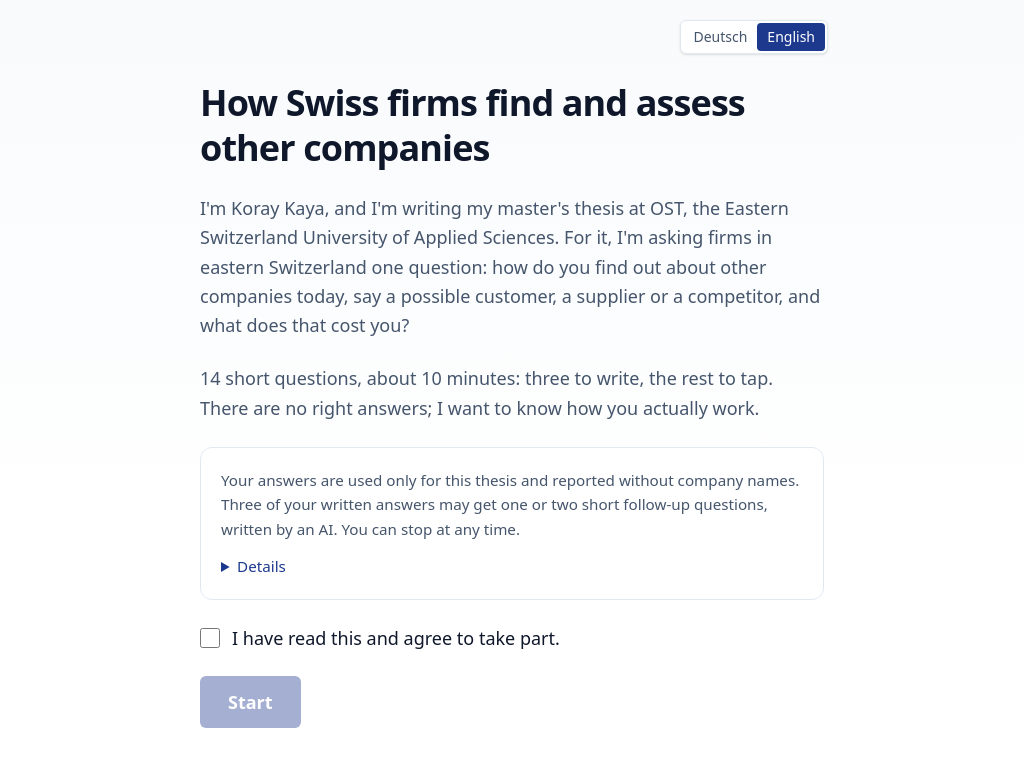
Form › Back returns to the previous answer
Click the checkbox: point(210, 638) [200, 628, 220, 648]
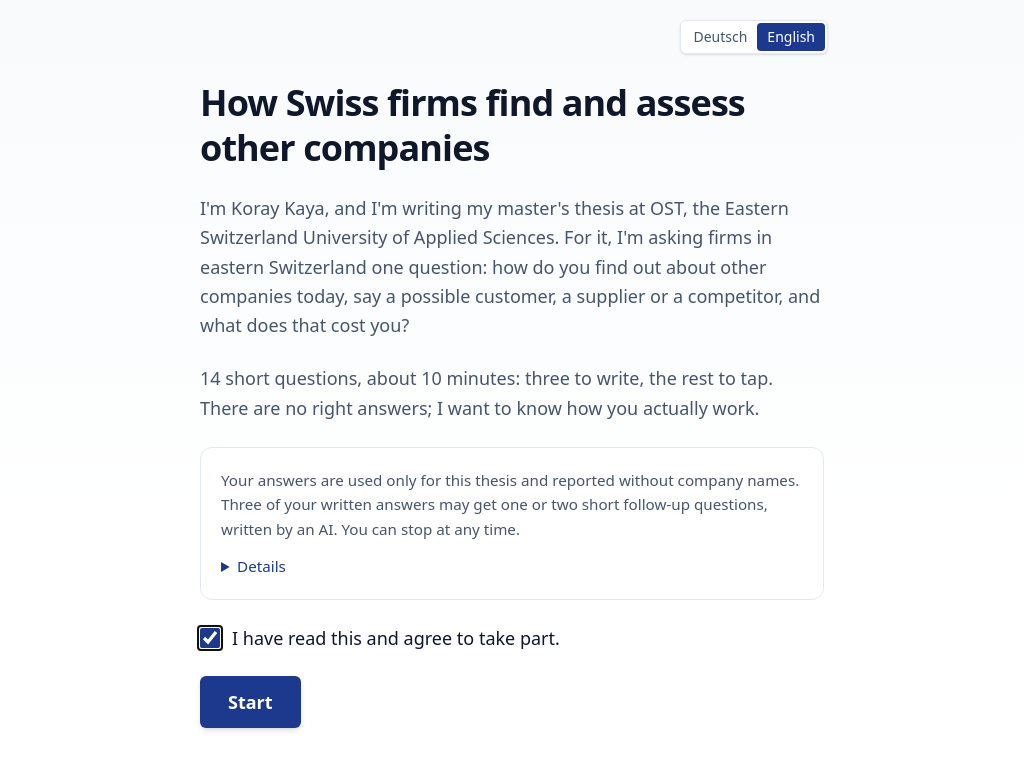
Click the button "Start": point(250, 702) [200, 676, 301, 728]
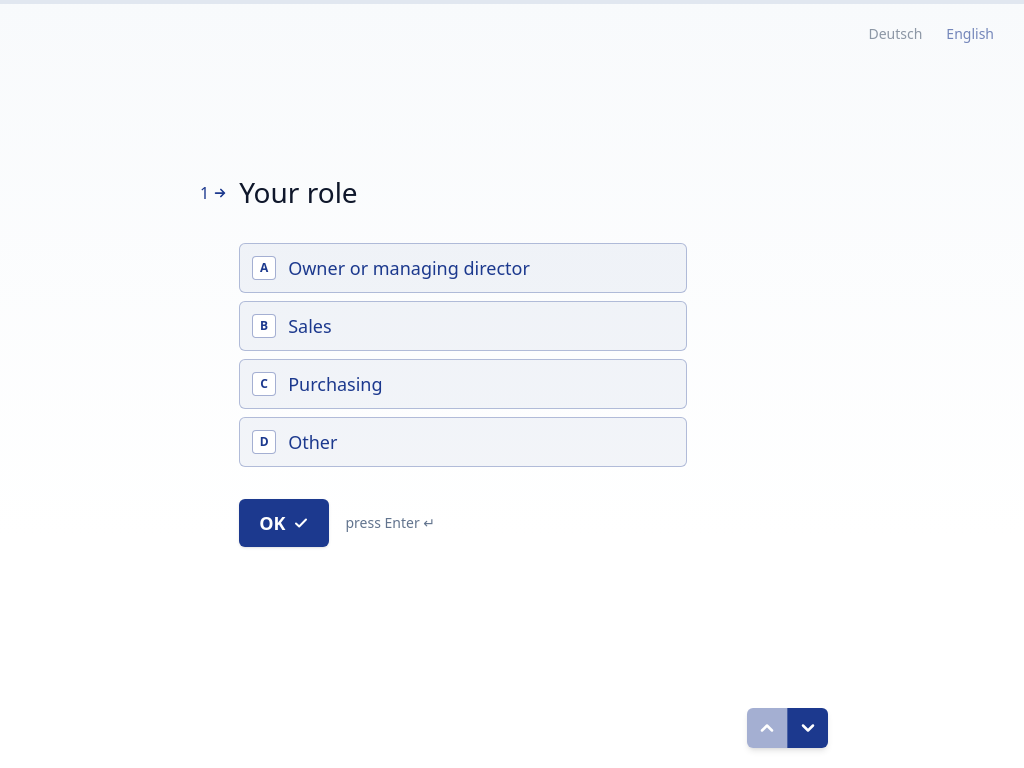
Check: the heading "Your role" is shown, box [239, 173, 358, 211]
Click the radio button labelled "B Sales": point(310, 326) [239, 301, 687, 351]
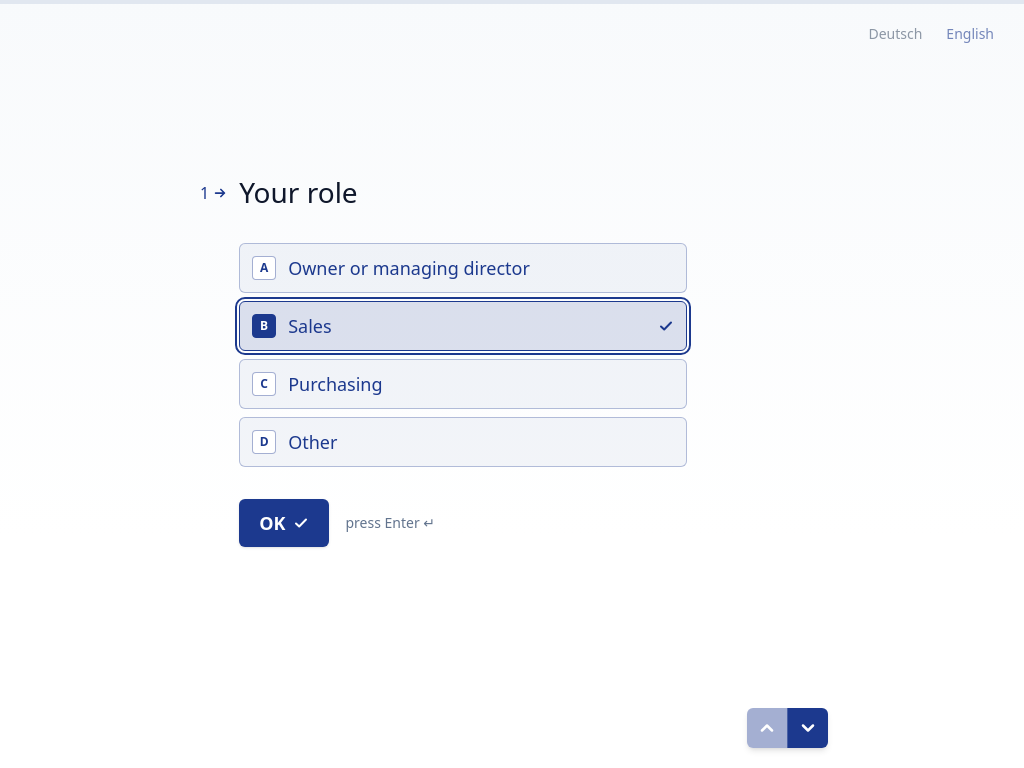
Click the button "OK": point(284, 523) [239, 499, 330, 547]
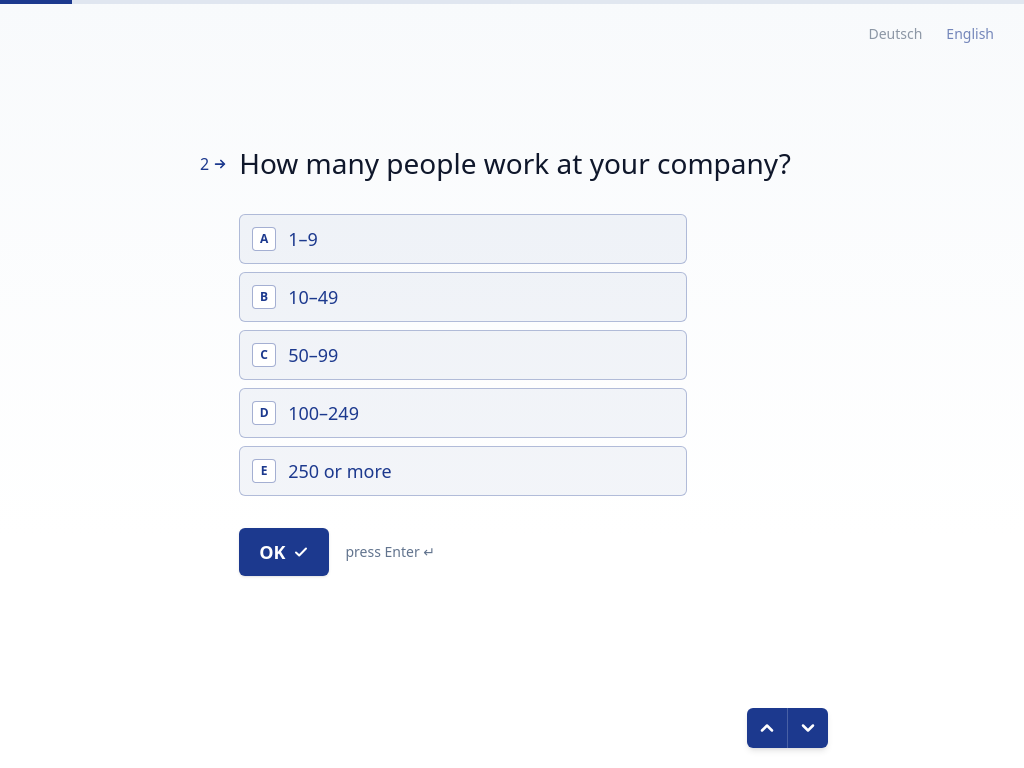
Check: the heading "How many people work at your company?" is shown, box [239, 144, 824, 182]
Click the button named "Back": point(767, 728) [747, 708, 787, 748]
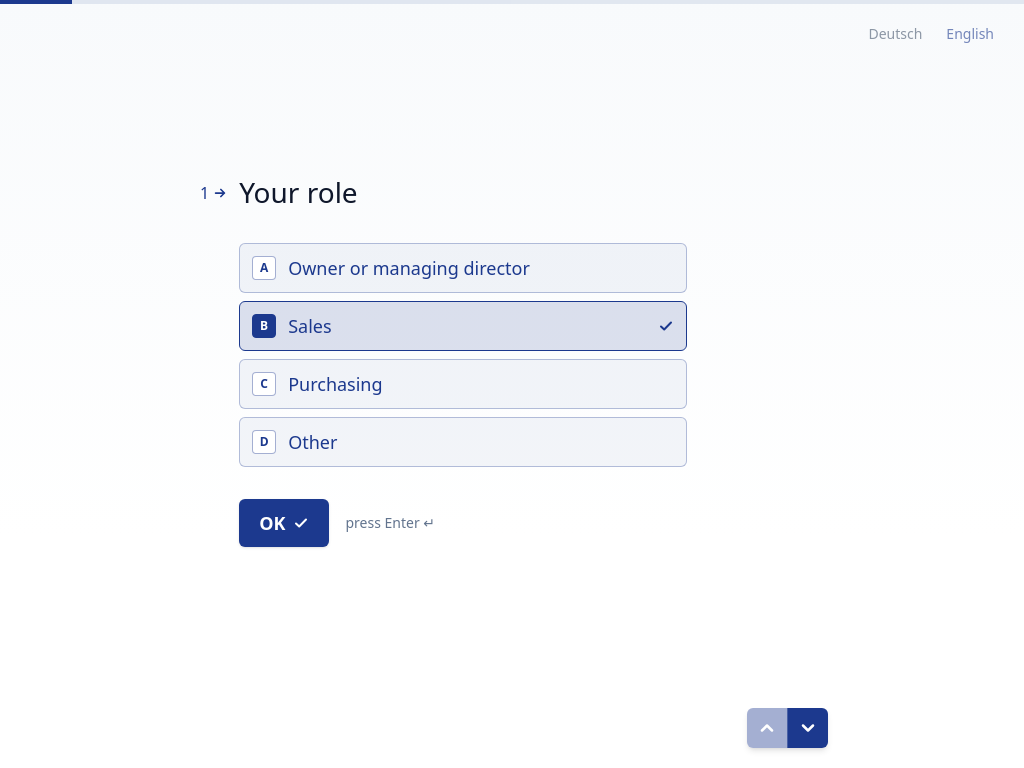
Check: the radio button labelled "B Sales" is checked, box [239, 301, 687, 351]
